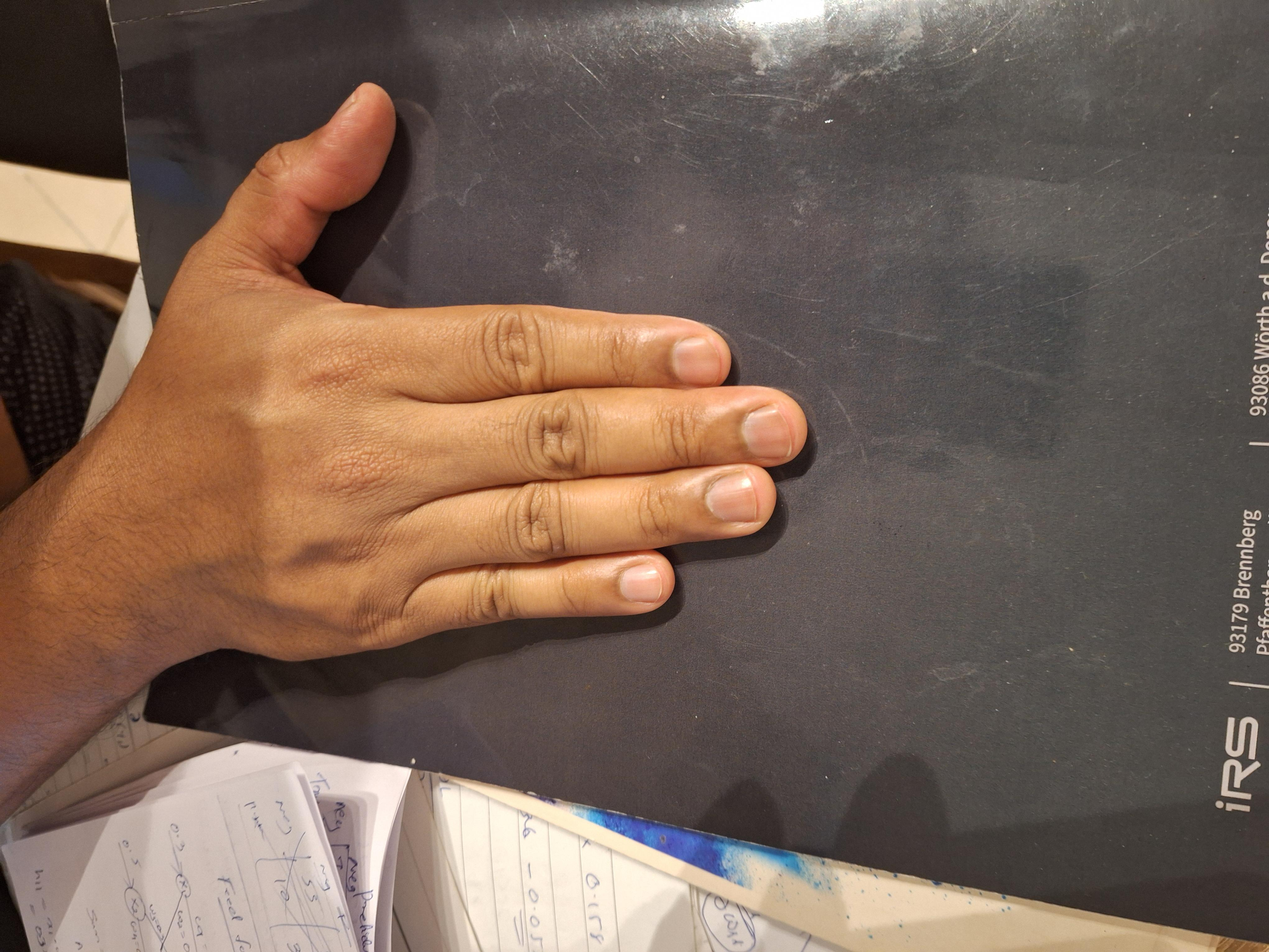Fingernail: (707, 470, 757, 521), (746, 403, 792, 458), (674, 336, 720, 385), (620, 562, 661, 602)
